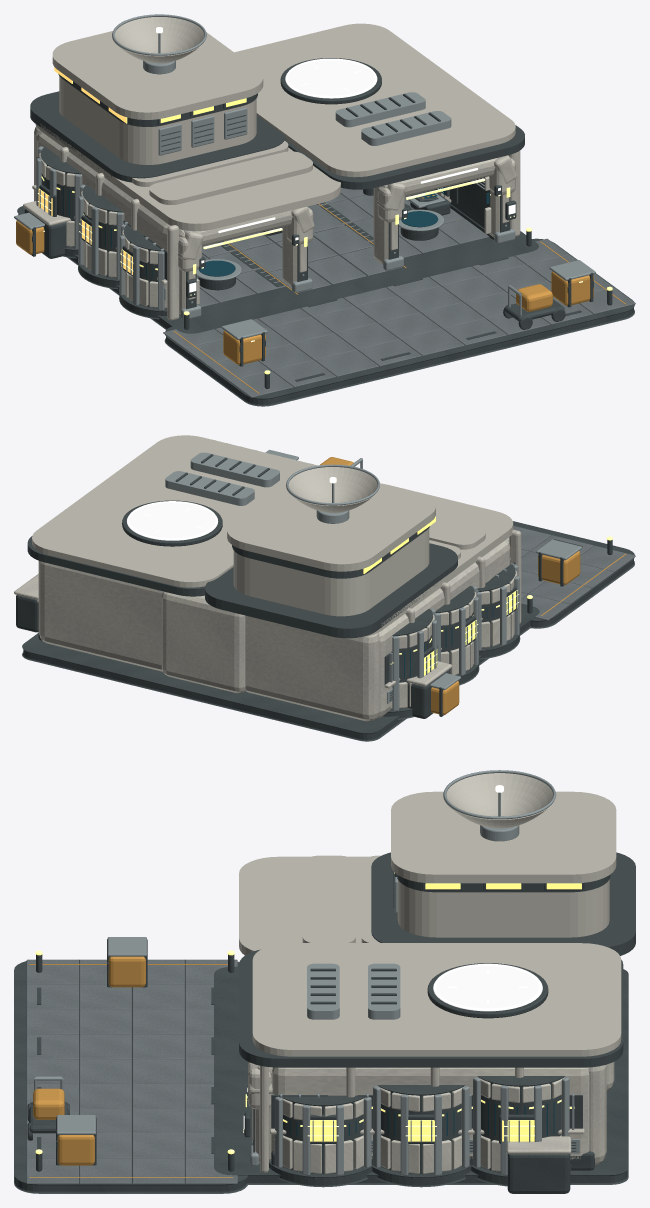
The model's file is base-relay.glb.
The picture shows the model from 3 angles, top to bottom: view 1: azimuth 30°, elevation 25°; view 2: azimuth 150°, elevation 25°; view 3: azimuth 270°, elevation 25°; orthographic projection. The views are drawn at different scales.
Parts seen in each view (by area): view 1: MF_Roof__structure_ivory_ceramic, MF_Court__court_weathered_basalt, MF_ShellCutaway__structure_ivory_ceramic, MF_Roof__structure_graphite_joints, MF_Interior__court_weathered_basalt, MF_BaseFixed__structure_graphite_joints, MF_Court__structure_graphite_joints, MF_Roof__brushed_titanium, MF_ShellCutaway__structure_graphite_joints, MF_ShellCutaway__brushed_titanium, MF_BaseFixed__structure_ivory_ceramic, MF_Props__utility_ochre (+9 smaller); view 2: MF_Roof__structure_ivory_ceramic, MF_BaseFixed__structure_ivory_ceramic, MF_Roof__structure_graphite_joints, MF_BaseFixed__structure_graphite_joints, MF_Court__court_weathered_basalt, MF_Roof__brushed_titanium, MF_ShellCutaway__brushed_titanium, MF_ShellCutaway__structure_graphite_joints, MF_ShellCutaway__structure_ivory_ceramic, MF_Roof__identity_roof_inset, MF_Props__structure_graphite_joints, MF_Props__utility_ochre (+5 smaller); view 3: MF_Roof__structure_ivory_ceramic, MF_Court__court_weathered_basalt, MF_ShellCutaway__structure_ivory_ceramic, MF_Roof__structure_graphite_joints, MF_BaseFixed__structure_graphite_joints, MF_ShellCutaway__structure_graphite_joints, MF_ShellCutaway__brushed_titanium, MF_Court__structure_graphite_joints, MF_Roof__brushed_titanium, MF_Props__structure_graphite_joints, MF_Roof__identity_roof_inset, MF_Props__utility_ochre (+6 smaller).
Boxes of the visible parts, box(x1,y1,x2,y2) form: MF_Roof__structure_ivory_ceramic: box(35, 17, 515, 231); MF_Court__court_weathered_basalt: box(163, 238, 635, 397); MF_ShellCutaway__structure_ivory_ceramic: box(38, 150, 520, 314); MF_Roof__structure_graphite_joints: box(30, 58, 524, 189); MF_Interior__court_weathered_basalt: box(196, 187, 489, 307); MF_BaseFixed__structure_graphite_joints: box(17, 157, 538, 333); MF_Court__structure_graphite_joints: box(164, 238, 634, 406); MF_Roof__brushed_titanium: box(112, 14, 451, 155); MF_ShellCutaway__structure_graphite_joints: box(39, 146, 516, 309); MF_ShellCutaway__brushed_titanium: box(36, 146, 515, 320); MF_BaseFixed__structure_ivory_ceramic: box(32, 126, 179, 320); MF_Props__utility_ochre: box(16, 220, 593, 364); MF_Roof__structure_ivory_ceramic: box(32, 435, 513, 637); MF_BaseFixed__structure_ivory_ceramic: box(38, 529, 521, 721); MF_Roof__structure_graphite_joints: box(27, 454, 457, 638); MF_BaseFixed__structure_graphite_joints: box(22, 561, 539, 741); MF_Court__court_weathered_basalt: box(513, 526, 635, 620); MF_Roof__brushed_titanium: box(165, 452, 379, 523); MF_ShellCutaway__brushed_titanium: box(392, 564, 519, 711); MF_ShellCutaway__structure_graphite_joints: box(391, 564, 516, 709); MF_ShellCutaway__structure_ivory_ceramic: box(37, 537, 517, 708); MF_Roof__identity_roof_inset: box(126, 503, 218, 540); MF_Props__structure_graphite_joints: box(16, 540, 612, 718); MF_Props__utility_ochre: box(320, 457, 580, 714); MF_Roof__structure_ivory_ceramic: box(239, 773, 621, 1056); MF_Court__court_weathered_basalt: box(26, 959, 237, 1183); MF_ShellCutaway__structure_ivory_ceramic: box(248, 1061, 589, 1173); MF_Roof__structure_graphite_joints: box(239, 852, 635, 1067); MF_BaseFixed__structure_graphite_joints: box(214, 966, 628, 1187); MF_ShellCutaway__structure_graphite_joints: box(244, 1076, 582, 1174); MF_ShellCutaway__brushed_titanium: box(250, 1077, 579, 1175); MF_Court__structure_graphite_joints: box(14, 959, 247, 1193); MF_Roof__brushed_titanium: box(307, 770, 556, 1019); MF_Props__structure_graphite_joints: box(27, 939, 570, 1193); MF_Roof__identity_roof_inset: box(433, 966, 542, 1011); MF_Props__utility_ochre: box(33, 956, 145, 1165).
Bounding box in the file's own units: 29.57 × 13.8 × 31.73.
15 materials, 3 textured.
